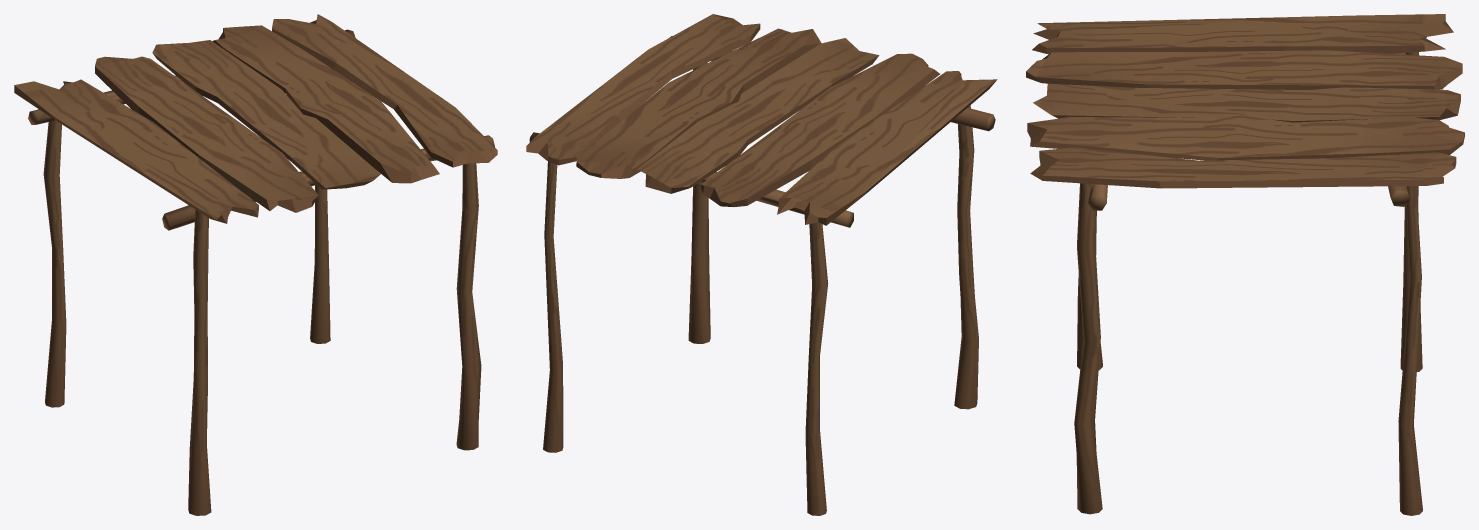
Rendered from platform.fbx.
The picture shows the model from 3 angles, left to right: view 1: azimuth 30°, elevation 25°; view 2: azimuth 150°, elevation 25°; view 3: azimuth 270°, elevation 25°; orthographic projection. The views are drawn at different scales.
Visible parts, largest first — view 1: Platform; view 2: Platform; view 3: Platform.
Boxes of the visible parts, left/top/right/bottom form: Platform: left=14, top=14, right=497, bottom=515; Platform: left=526, top=14, right=997, bottom=515; Platform: left=1026, top=14, right=1464, bottom=515.
Size of the model in its own units: 343 by 319 by 369.
